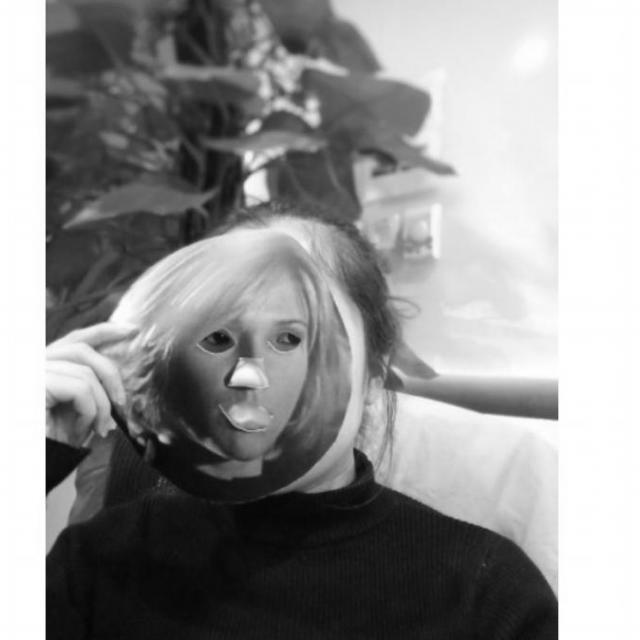fake: (100, 232, 350, 500)
